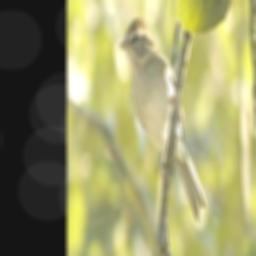Sparrow: (118, 13, 205, 223)
